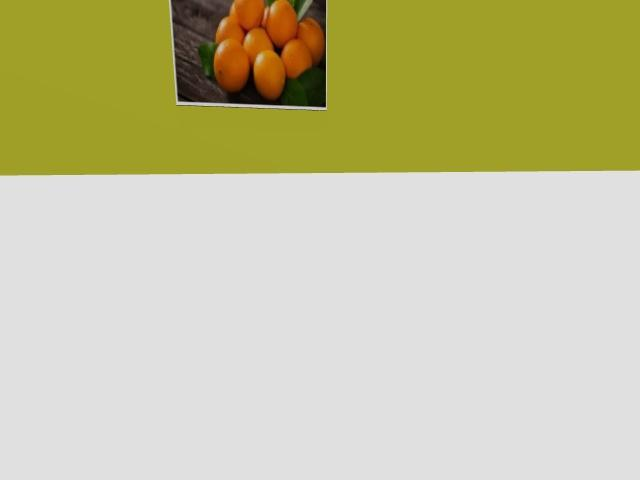orange: (213, 39, 249, 92), (254, 50, 285, 100), (267, 0, 297, 46), (297, 18, 324, 65), (281, 39, 311, 78), (243, 27, 273, 64), (234, 0, 263, 30), (215, 17, 244, 43), (261, 6, 268, 29), (229, 3, 237, 20)
